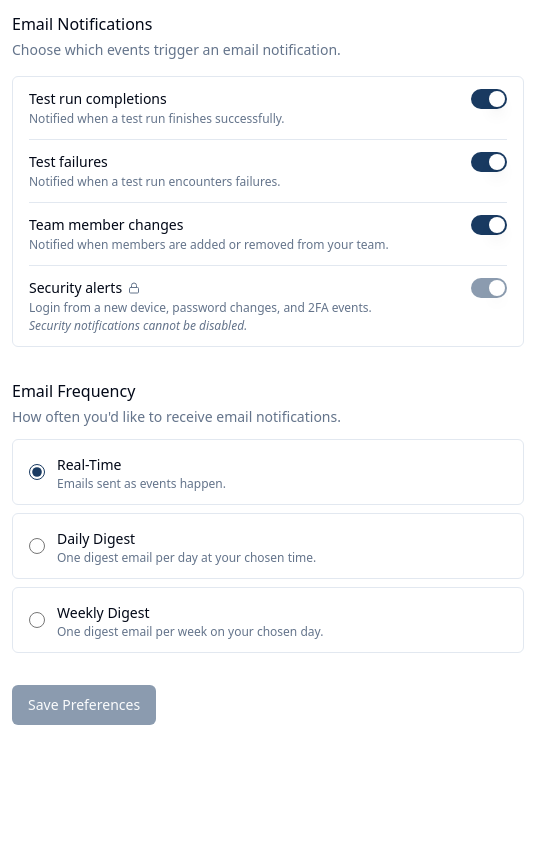
Test: NotificationsPage › selecting daily shows digest time picker
The width and height of the screenshot is (541, 846).
Expected: the text "Daily digest One digest email per day at your chosen time." is shown, [12,513,524,579]
Step 1. Click the radio button labelled "Daily digest One digest email per day at your chosen time." → [37, 546], box [29,538,45,554]
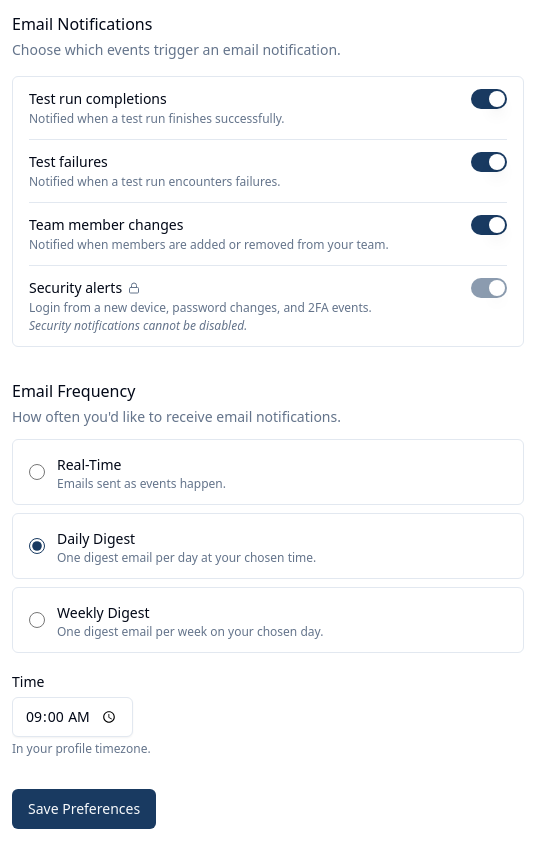
Now the time field with test id "digest-time-input" is shown, box [12,697,133,737]
